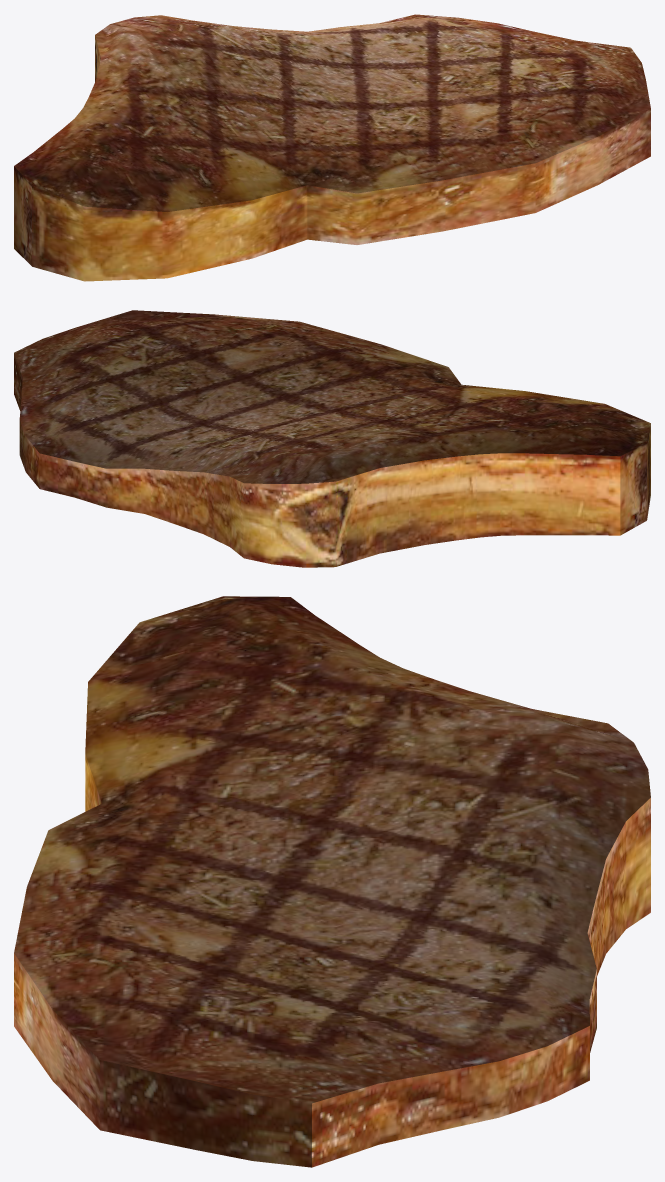
Rendered from steak.obj.
3 views of the same model, one above another, from view 1: azimuth 30°, elevation 25°; view 2: azimuth 150°, elevation 25°; view 3: azimuth 270°, elevation 25° (orthographic). The views are drawn at different scales.
Visible parts, largest first — view 1: obj1.001; view 2: obj1.001; view 3: obj1.001.
Part boxes in pixels (x1,y1,x2,y2): obj1.001: (14,14,650,281); obj1.001: (14,310,650,567); obj1.001: (14,596,650,1167).
Bounding box in the file's own units: 7.29 × 1.14 × 4.34.
1 material, 1 textured.
